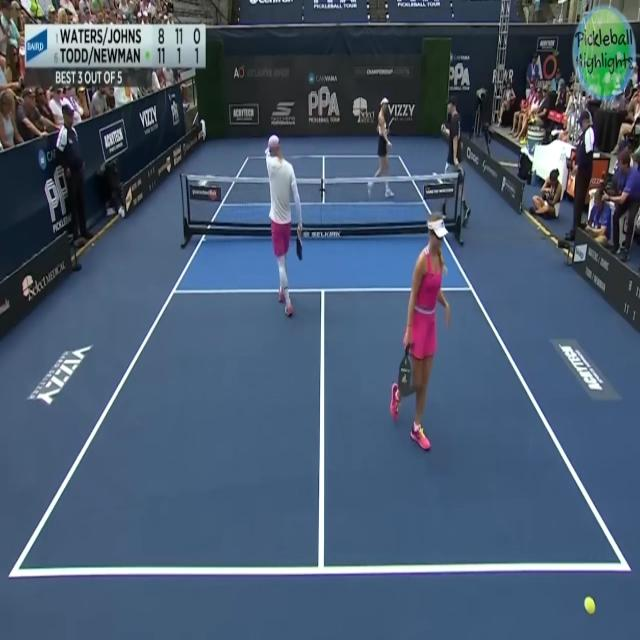Pickleball: (584, 593, 597, 619)
